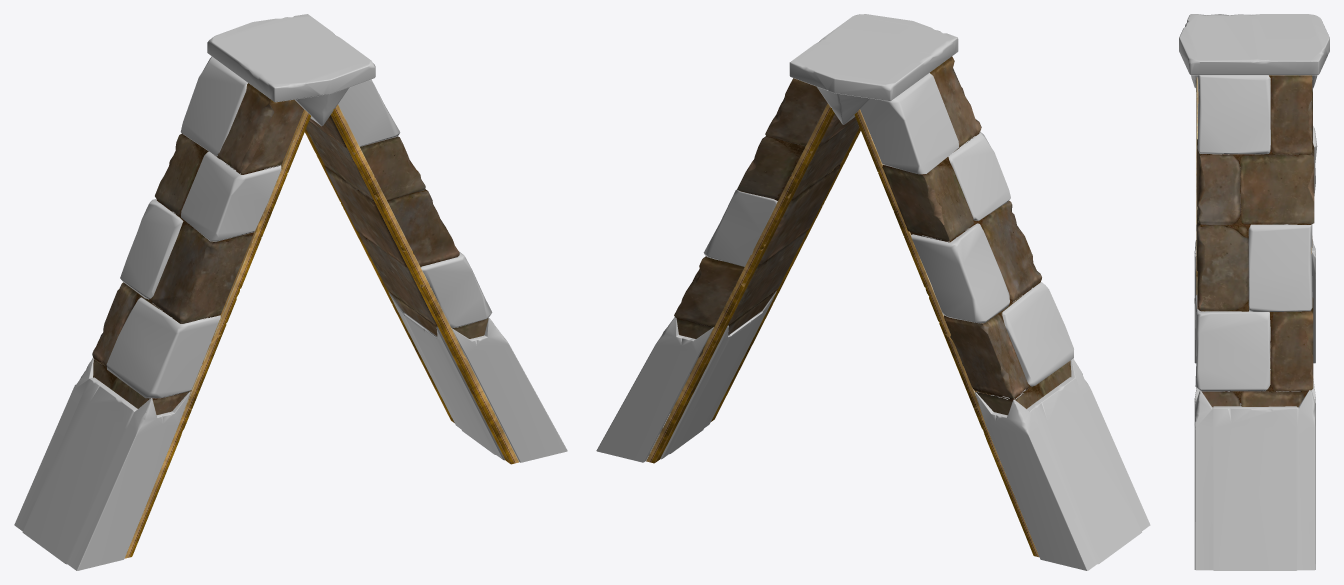
The picture shows the model from 3 angles, left to right: view 1: azimuth 30°, elevation 25°; view 2: azimuth 150°, elevation 25°; view 3: azimuth 270°, elevation 25°; orthographic projection. The views are drawn at different scales.
Parts seen in each view (by area): view 1: SM_Nightmare_Entrance_01_LOD0; view 2: SM_Nightmare_Entrance_01_LOD0; view 3: SM_Nightmare_Entrance_01_LOD0.
Boxes of the visible parts, left/top/right/bottom form: SM_Nightmare_Entrance_01_LOD0: left=14, top=14, right=567, bottom=570; SM_Nightmare_Entrance_01_LOD0: left=596, top=14, right=1150, bottom=570; SM_Nightmare_Entrance_01_LOD0: left=1179, top=14, right=1329, bottom=570.
Size of the model in its own units: 9.58 by 8.11 by 2.65.
